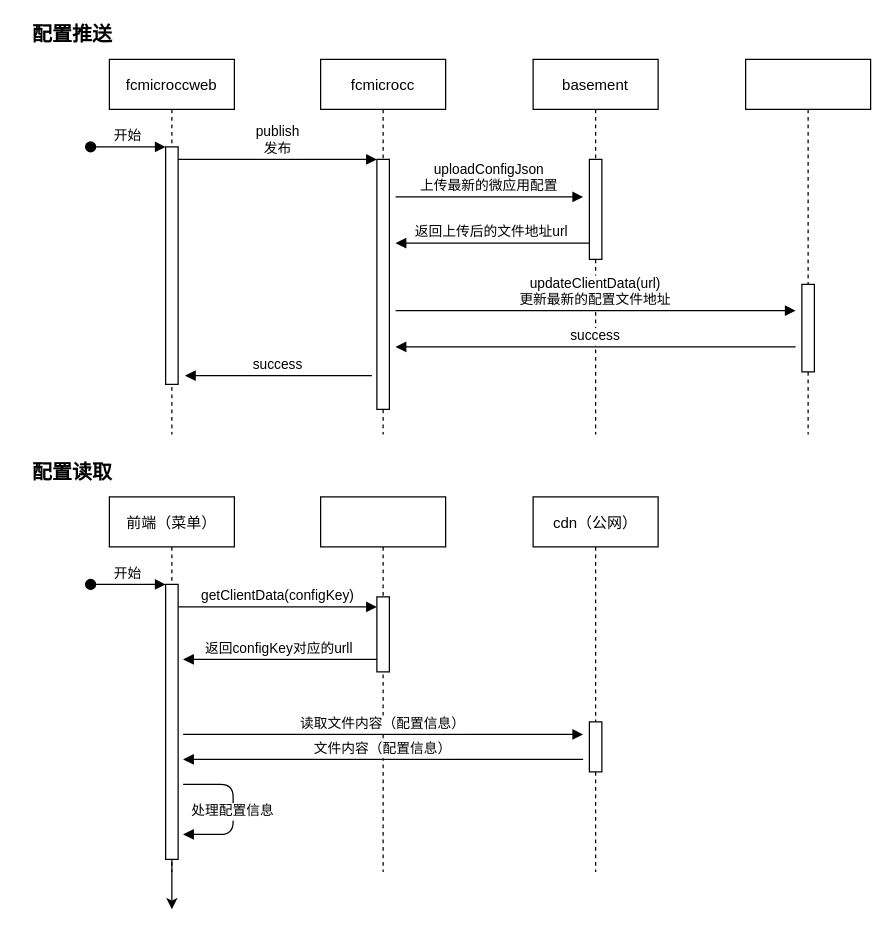
Some shapes in this 893 by 941 pixel diagram are drawn without their labels. The shapes that lost their labels are listed below. From the top down, each one's centre as x and y in pixels, then its label:
At point 807,246: "csmng后端".
At point 382,684: "csmng".
